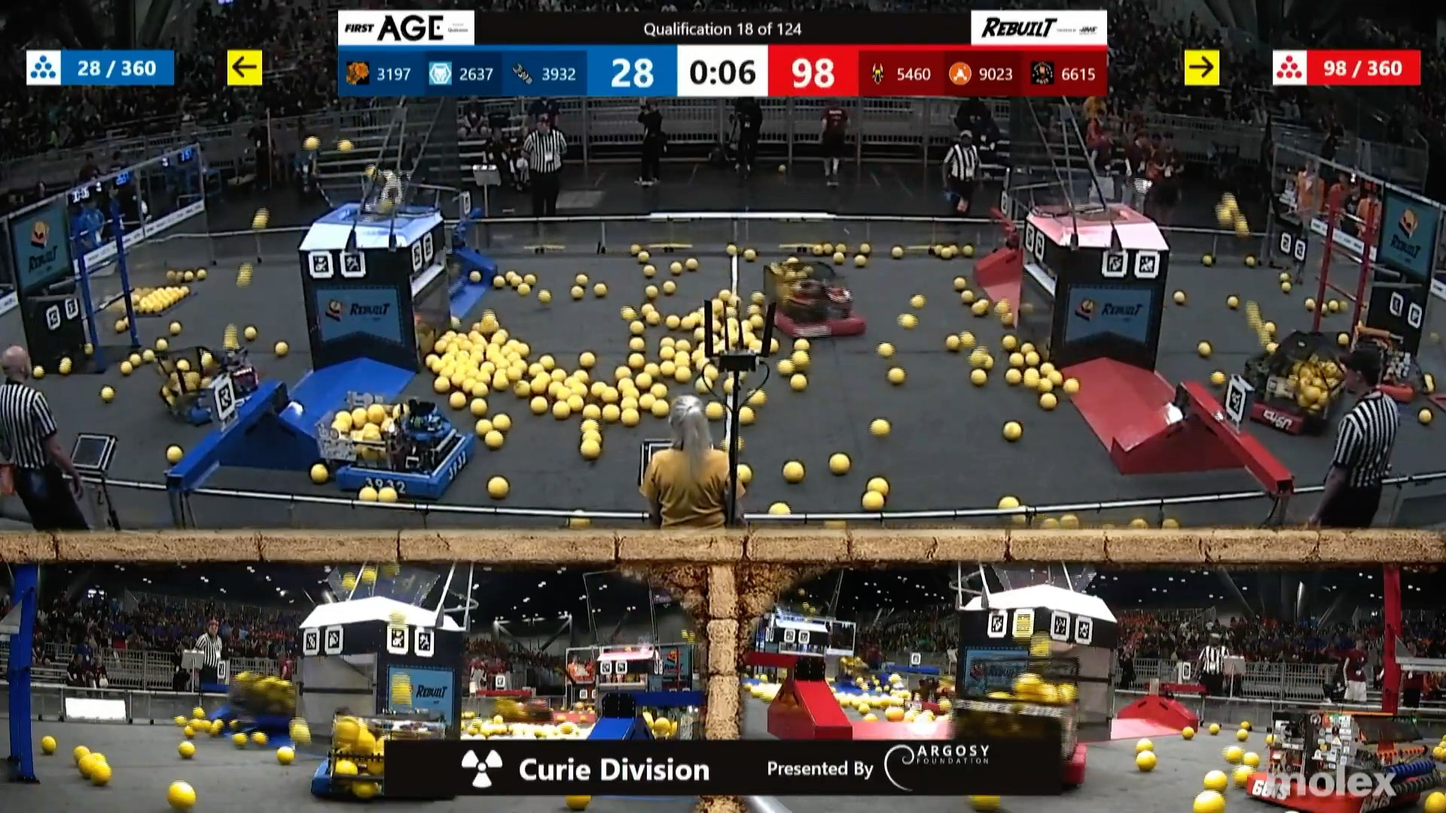bumpers: (1249, 766, 1446, 813), (1207, 379, 1352, 440), (337, 444, 474, 498), (157, 373, 288, 428), (203, 704, 310, 751), (309, 750, 387, 808), (761, 301, 868, 341)
